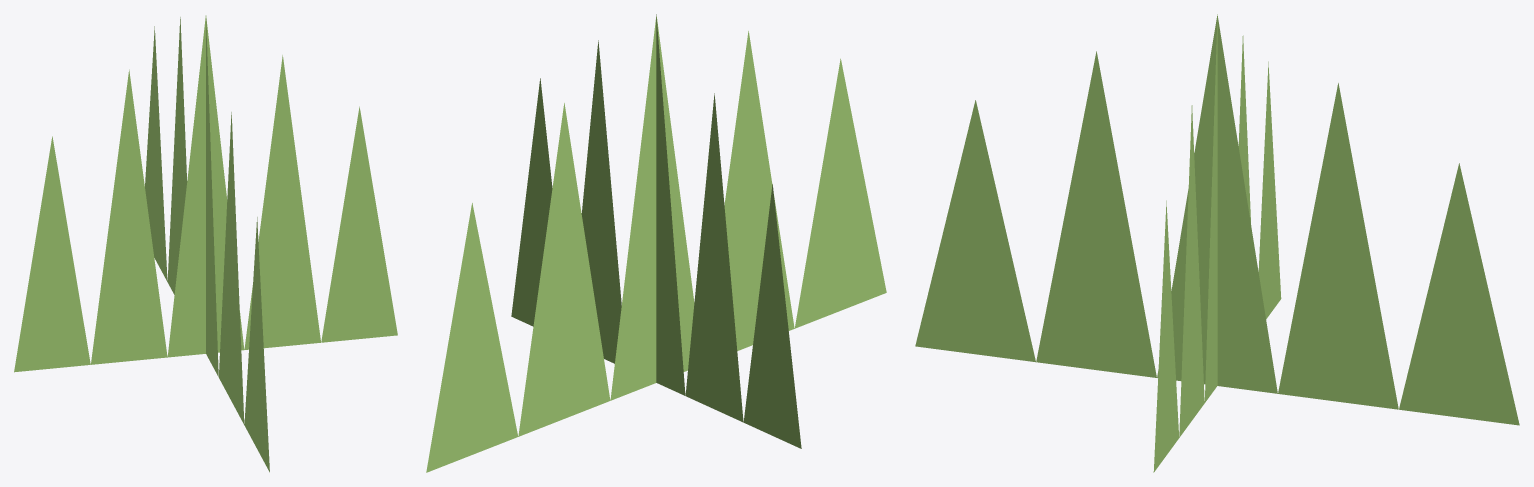
The model's file is rumput.fbx.
The picture shows the model from 3 angles, left to right: view 1: azimuth 30°, elevation 25°; view 2: azimuth 150°, elevation 25°; view 3: azimuth 270°, elevation 25°; orthographic projection. The views are drawn at different scales.
Visible parts, largest first — view 1: Plane.001; view 2: Plane.001; view 3: Plane.001.
Part boxes in pixels (<box>): Plane.001: <box>14,15,397,472</box>; Plane.001: <box>426,14,886,472</box>; Plane.001: <box>915,14,1519,472</box>.
Bounding box in the file's own units: 158 × 158 × 232.
